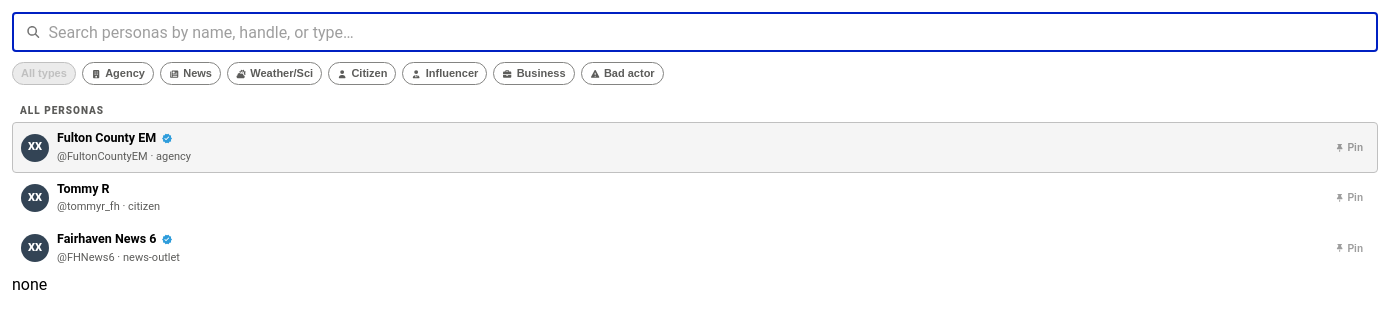
Test case: PersonaPicker — recents + pinned favorites › selecting a persona surfaces it in "Recent" on next browse
This screenshot has width=1390, height=334.
Click the option with test id "persona-picker-option-persona-fh-news": (107, 238) left=12, top=223, right=1378, bottom=273
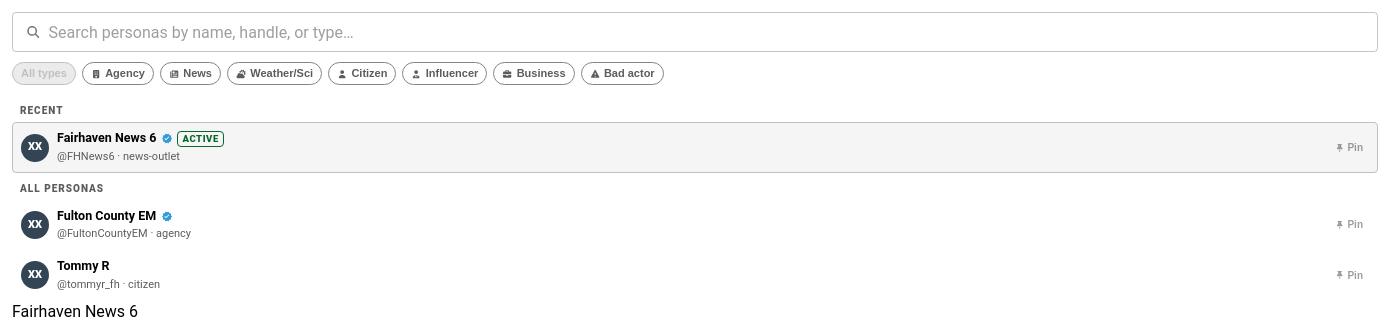
Result: the text "RECENT" is shown at left=20, top=105, right=64, bottom=116
